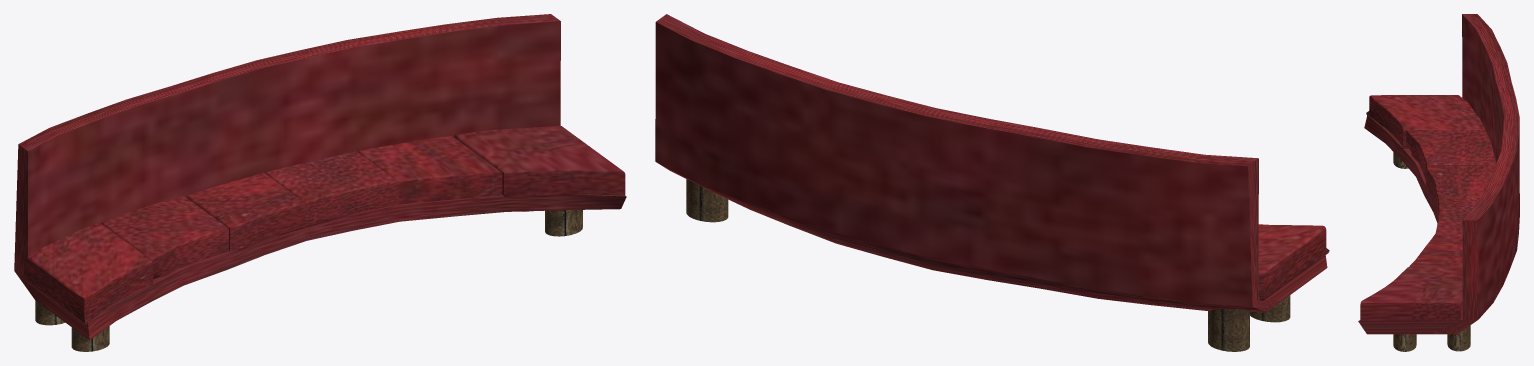
Rendered from sillonrojo.obj.
3 renders of one model, left to right at view 1: azimuth 30°, elevation 25°; view 2: azimuth 150°, elevation 25°; view 3: azimuth 270°, elevation 25°, orthographic. The views are drawn at different scales.
Parts seen in each view (by area): view 1: polySurface13; view 2: polySurface13; view 3: polySurface13.
Boxes of the visible parts, x1=… form: polySurface13: x1=14, y1=14, x2=626, y2=351; polySurface13: x1=655, y1=14, x2=1329, y2=351; polySurface13: x1=1358, y1=14, x2=1519, y2=351.
Size of the model in its own units: 24.81 by 7.67 by 8.16.
11 materials, 11 textured.
